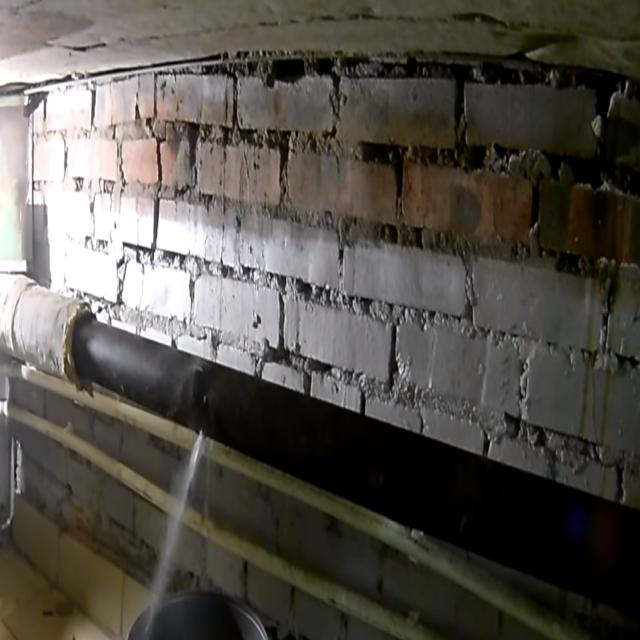leak: (150, 430, 204, 619)
